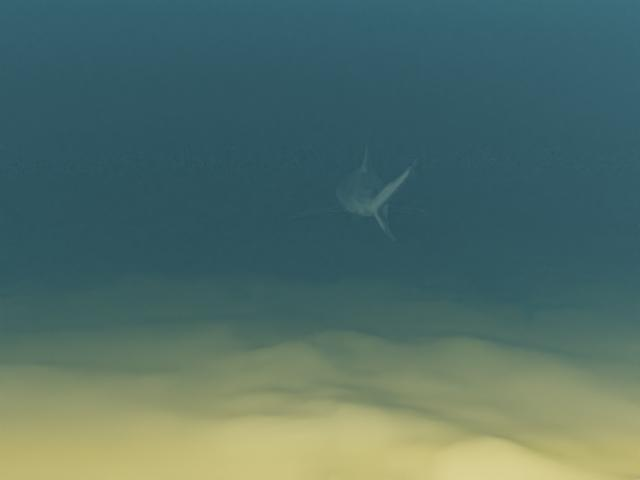Carribean Shark.001: (288, 140, 442, 241)
